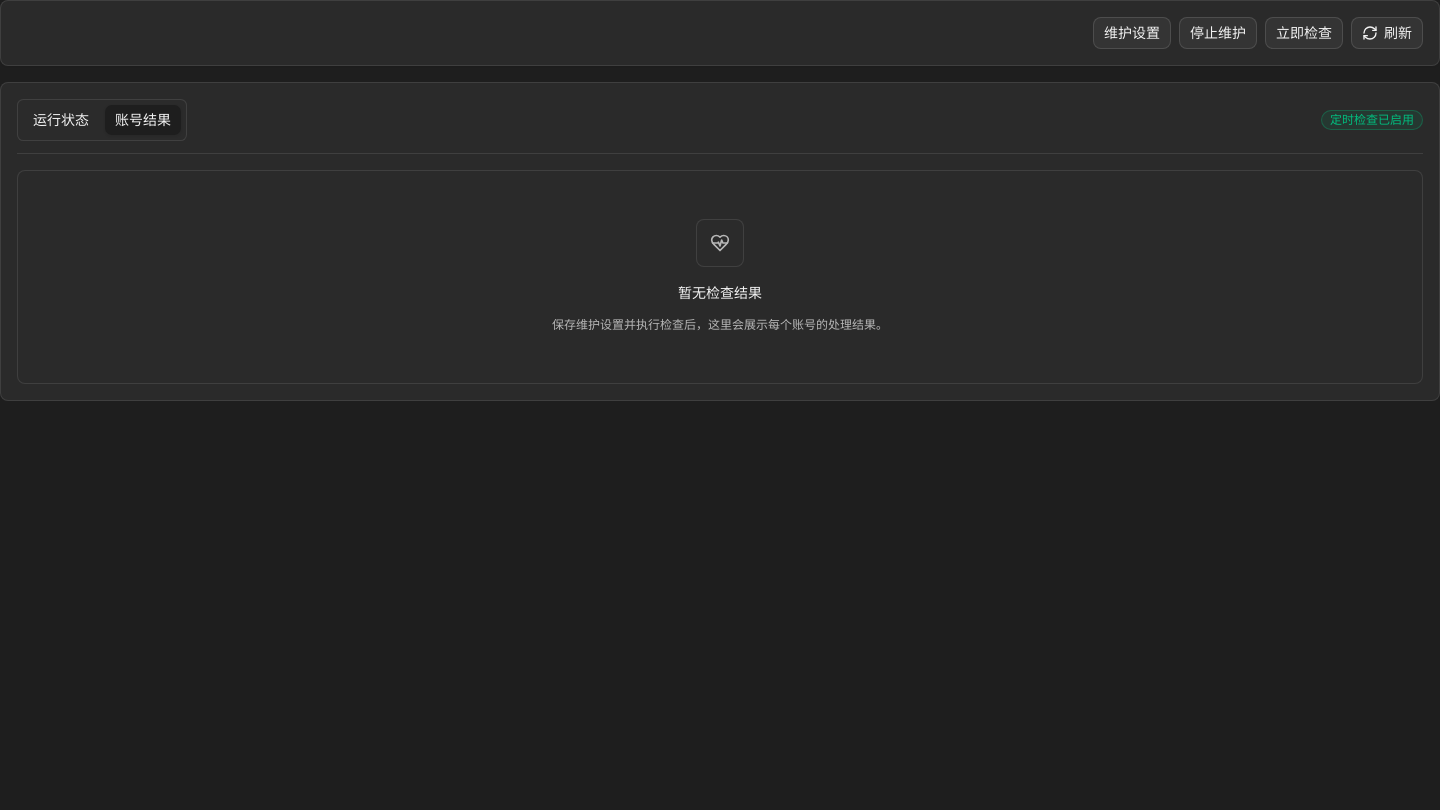
Test: 维护两张表分别放在可键盘切换的Tab中，设置包含两个智商检测开关
The width and height of the screenshot is (1440, 810).
Click the tab "运行状态": (61, 120) [22,104,100,136]
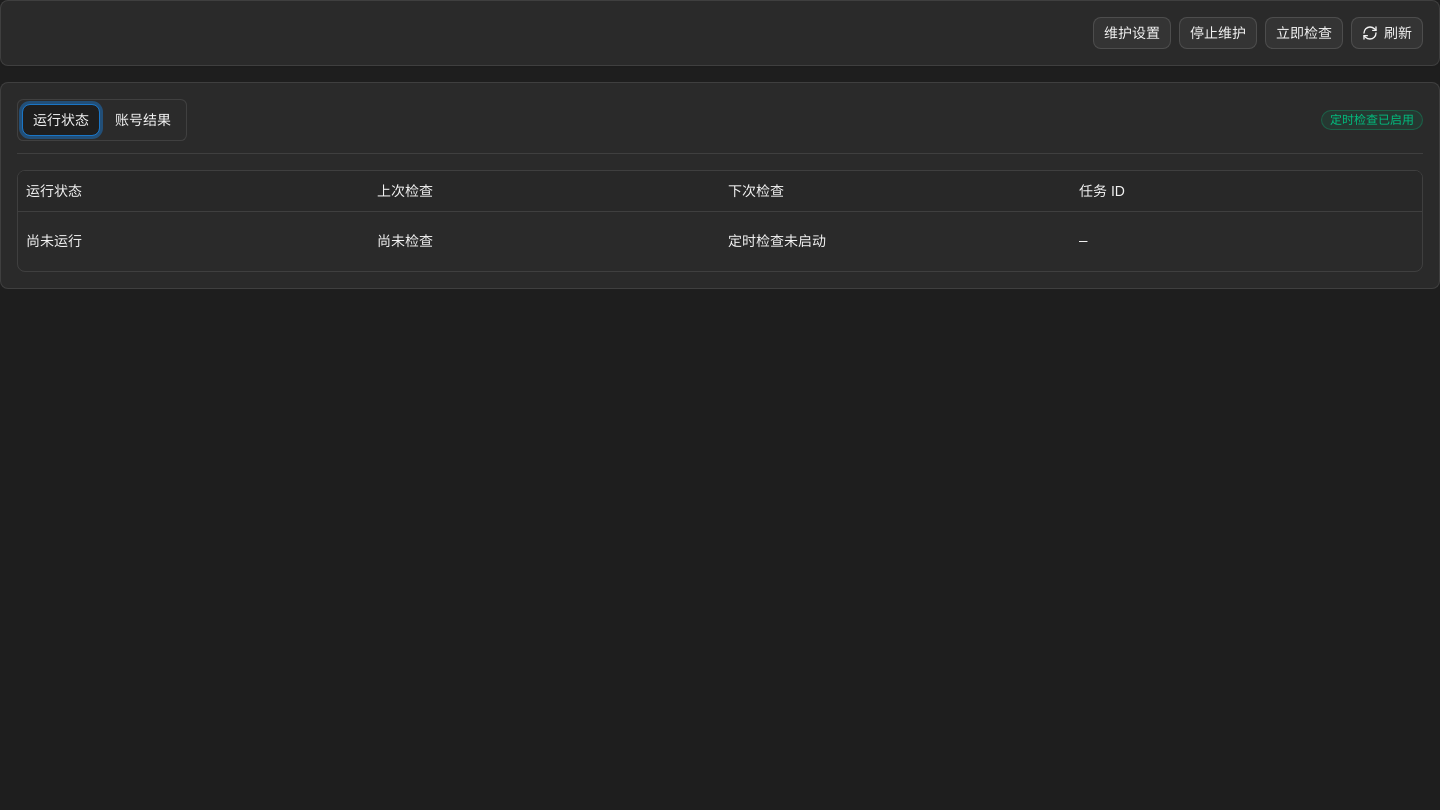
Result: the table named "维护运行状态" is shown at [18,171,1422,271]
Press Arrowright
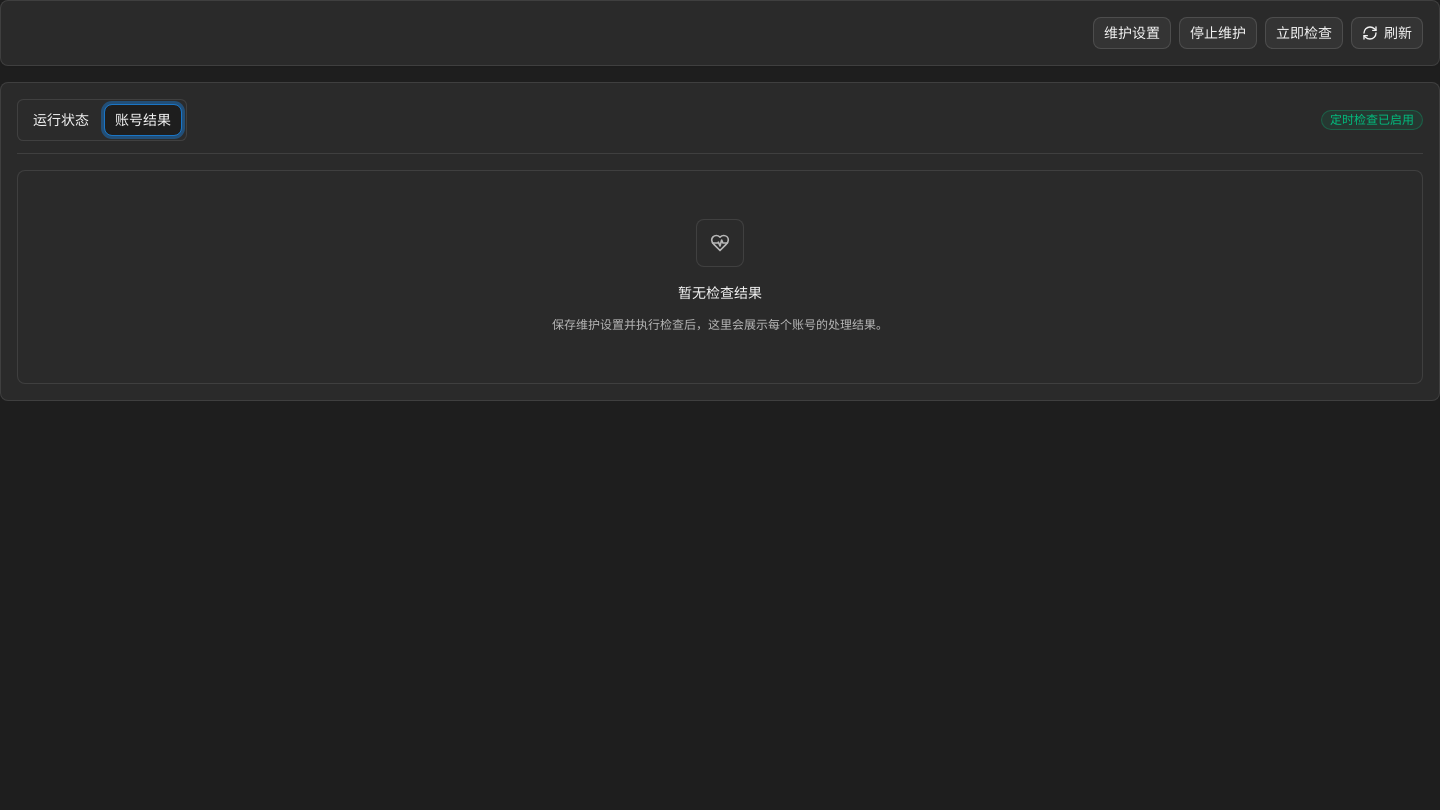
Result: the table "维护运行状态" is gone
Click the button "维护设置": (1132, 33) [1093,17,1171,49]
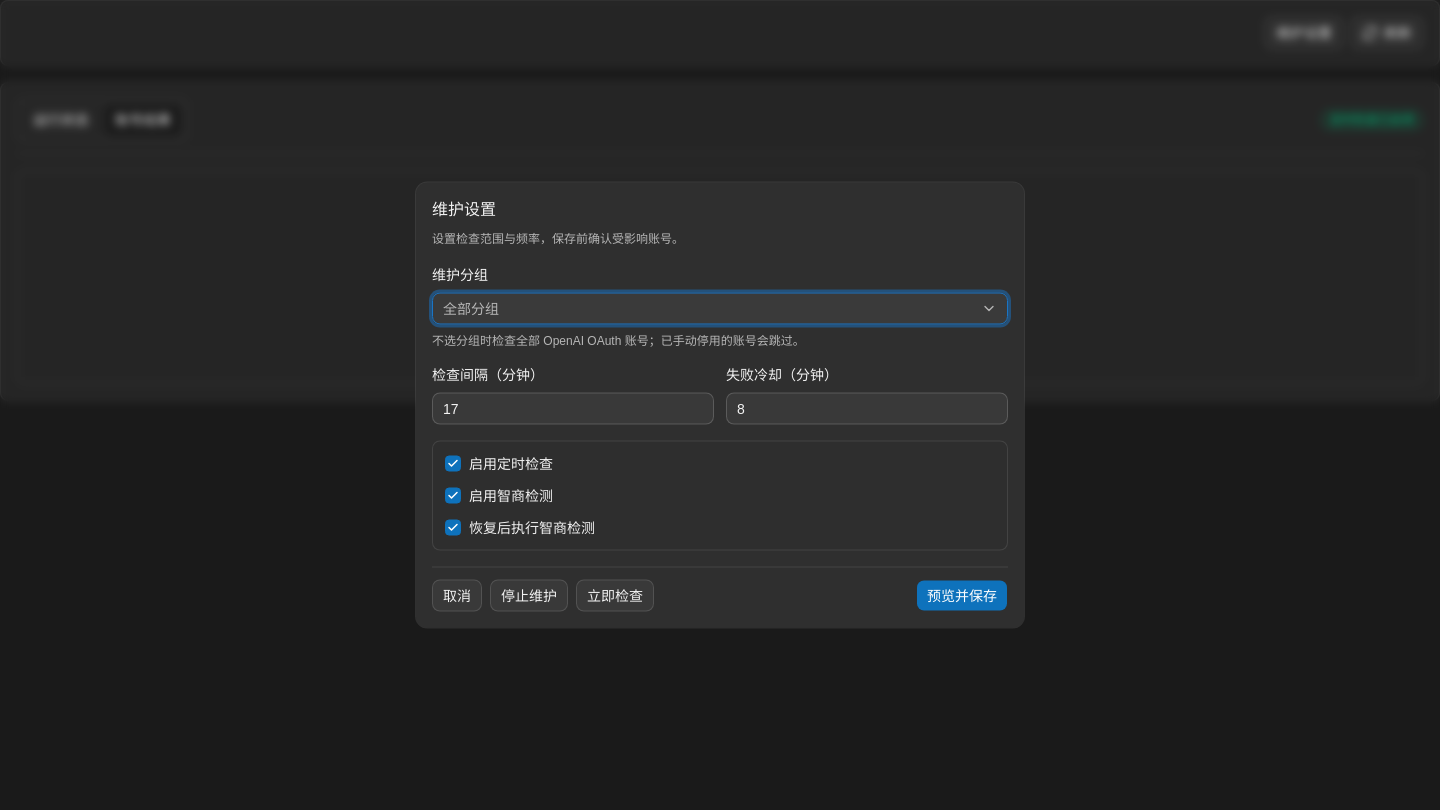
Result: the checkbox named "启用智商检测" next to "启用智商检测" is checked at [445,488,461,504]
Result: the checkbox named "恢复后执行智商检测" next to "恢复后执行智商检测" is checked at [445,520,461,536]
